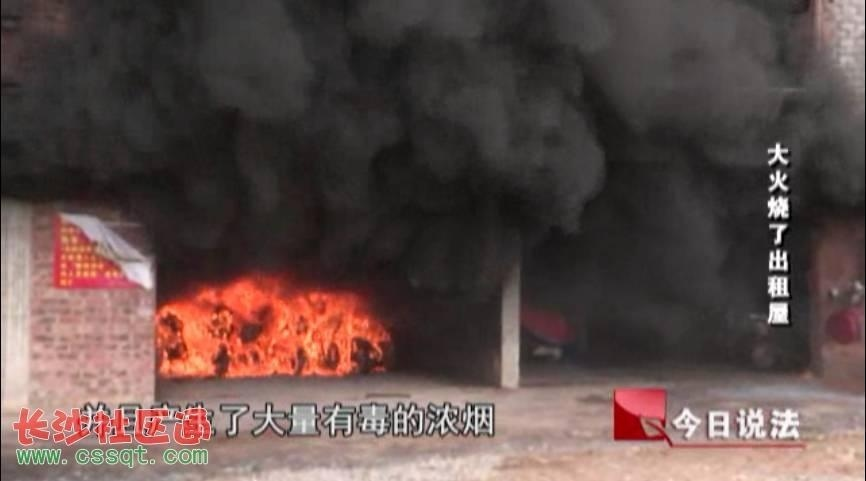fire: (154, 269, 390, 378)
